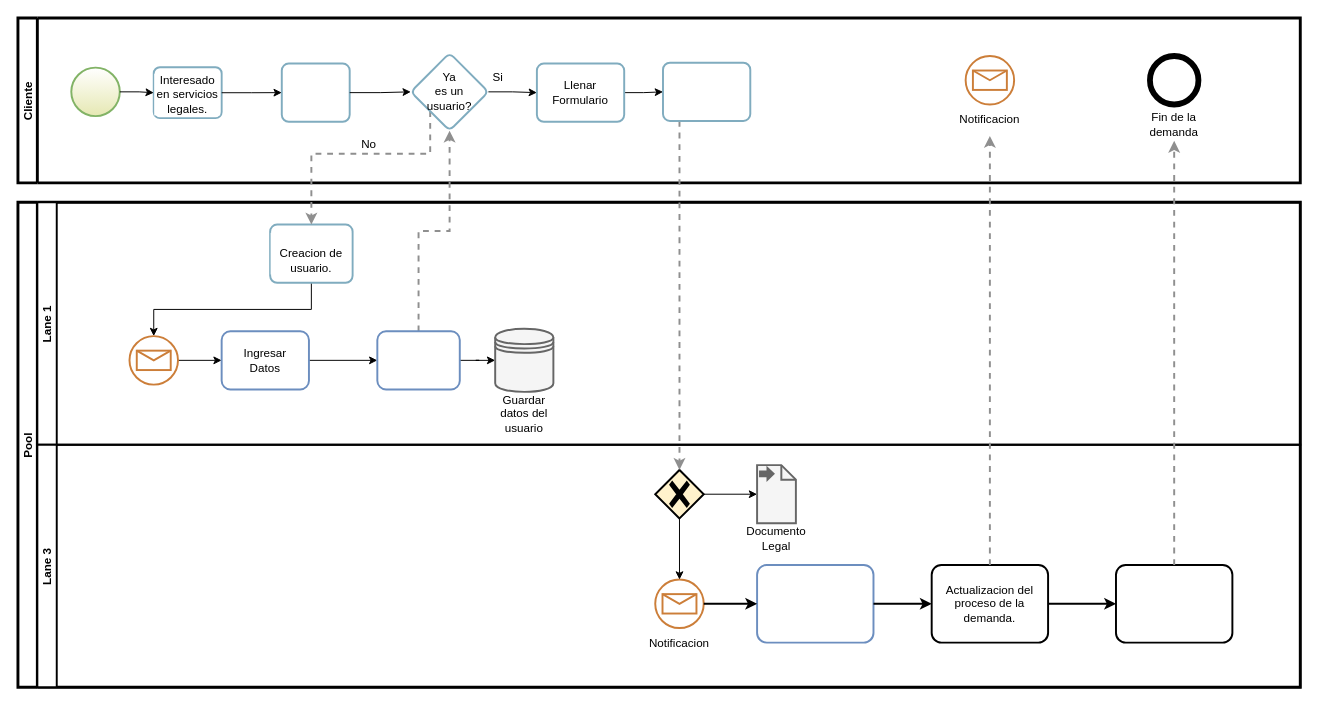
Image size: 1318x705. Some labels were removed from this diagram. The shapes that lost their labels are listed below. From the top down, each one's centre as x and y in pixels, then its label:
(315,92): Visita sitio web.
(706,91): Pago.
(418,360): Verificar Datos
(815,603): Dashboard con la cantidad de ingresos.
(1174,603): FInalizacion de la demanda
